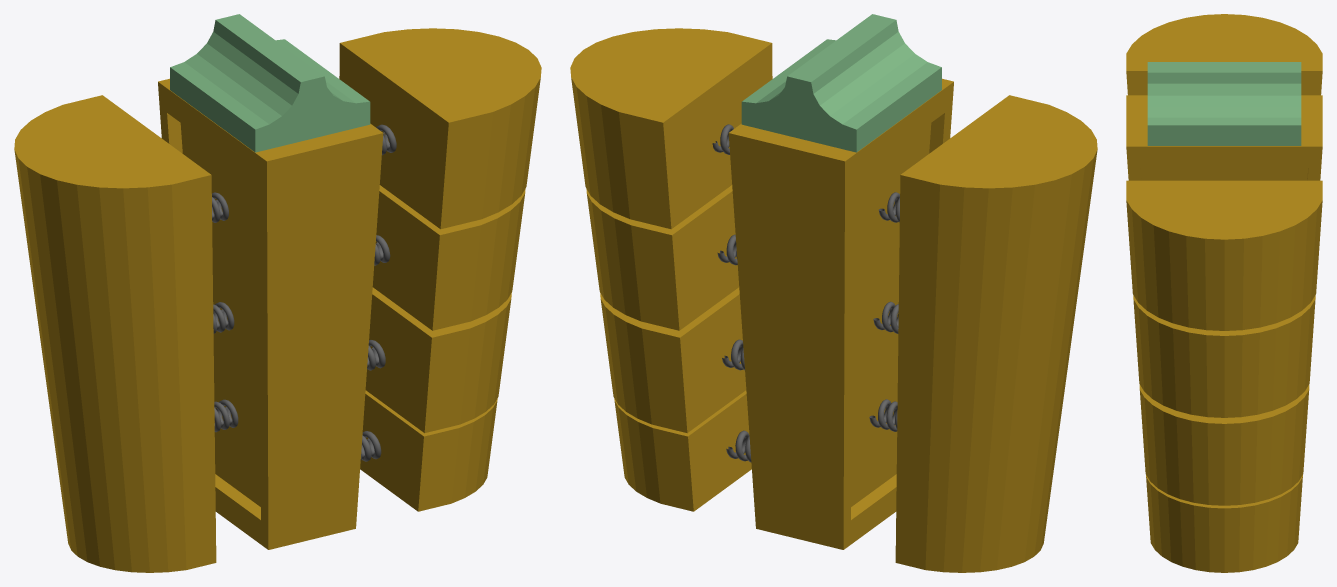
File: VIS_HandInterface.dae
The picture shows the model from 3 angles, left to right: view 1: azimuth 30°, elevation 25°; view 2: azimuth 150°, elevation 25°; view 3: azimuth 270°, elevation 25°; orthographic projection. The views are drawn at different scales.
Parts seen in each view (by area): view 1: VIS_HandInterface; view 2: VIS_HandInterface; view 3: VIS_HandInterface.
Part boxes in pixels (<box>): VIS_HandInterface: <box>14,14,541,572</box>; VIS_HandInterface: <box>570,14,1097,572</box>; VIS_HandInterface: <box>1126,14,1322,572</box>.
Bounding box in the file's own units: 0.0779 × 0.0293 × 0.0684.
